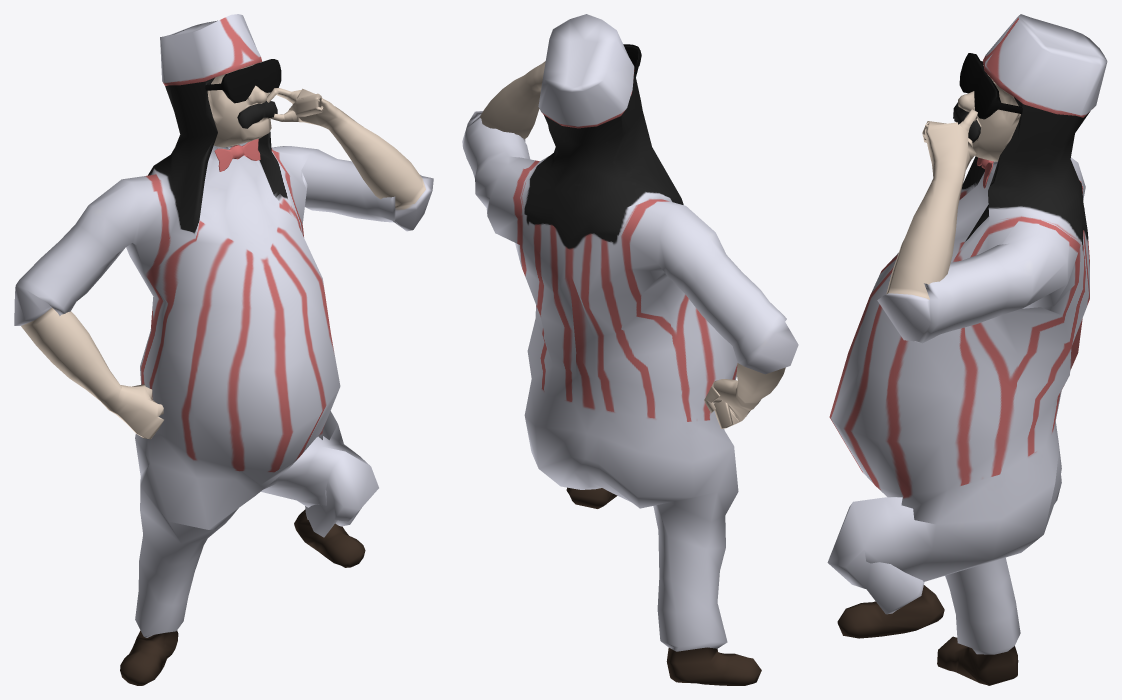
Rendered from Glasse_Intro_Pose_NEW.fbx.
3 views of the same model, side by side, from view 1: azimuth 30°, elevation 25°; view 2: azimuth 150°, elevation 25°; view 3: azimuth 270°, elevation 25° (orthographic). The views are drawn at different scales.
Visible parts, largest first — view 1: Glasse_retopo1; view 2: Glasse_retopo1; view 3: Glasse_retopo1.
Boxes of the visible parts, x1,y1,x2,y2 form: Glasse_retopo1: (14,14,433,685); Glasse_retopo1: (462,14,798,685); Glasse_retopo1: (827,14,1107,685).
Size of the model in its own units: 1.21 by 2 by 0.7086.
Materials: 1 (1 with a texture image).
